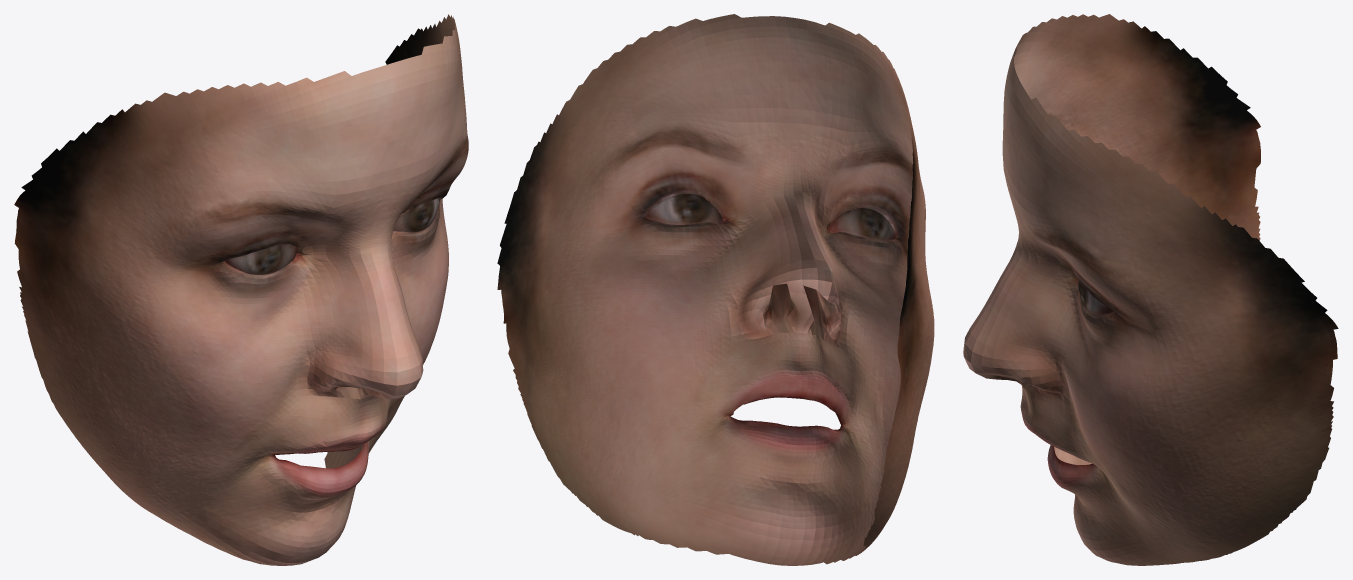
Rendered from frame_933_mesh.obj.
3 views of the same model, side by side, from view 1: azimuth 30°, elevation 25°; view 2: azimuth 150°, elevation 25°; view 3: azimuth 270°, elevation 25° (orthographic). The views are drawn at different scales.
Size of the model in its own units: 1.31 by 1.68 by 1.13.
